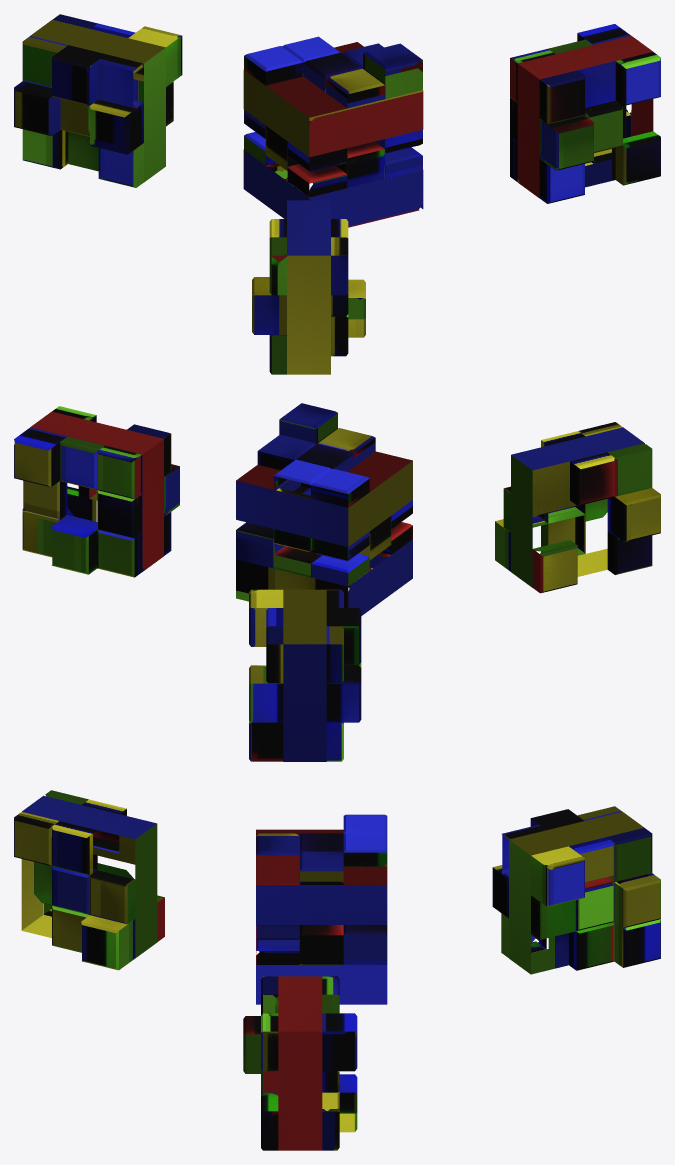
Rendered from stage_2_lightmap.obj.
The picture shows the model from 3 angles, top to bottom: view 1: azimuth 30°, elevation 25°; view 2: azimuth 150°, elevation 25°; view 3: azimuth 270°, elevation 25°; orthographic projection.
Visible parts, largest first — view 1: stage_2; view 2: stage_2; view 3: stage_2.
Boxes of the visible parts, x1,y1,x2,y2 form: stage_2: (14, 14, 660, 374); stage_2: (14, 403, 660, 761); stage_2: (14, 790, 660, 1150).
Bounding box in the file's own units: 67.1 × 22.63 × 73.87.
